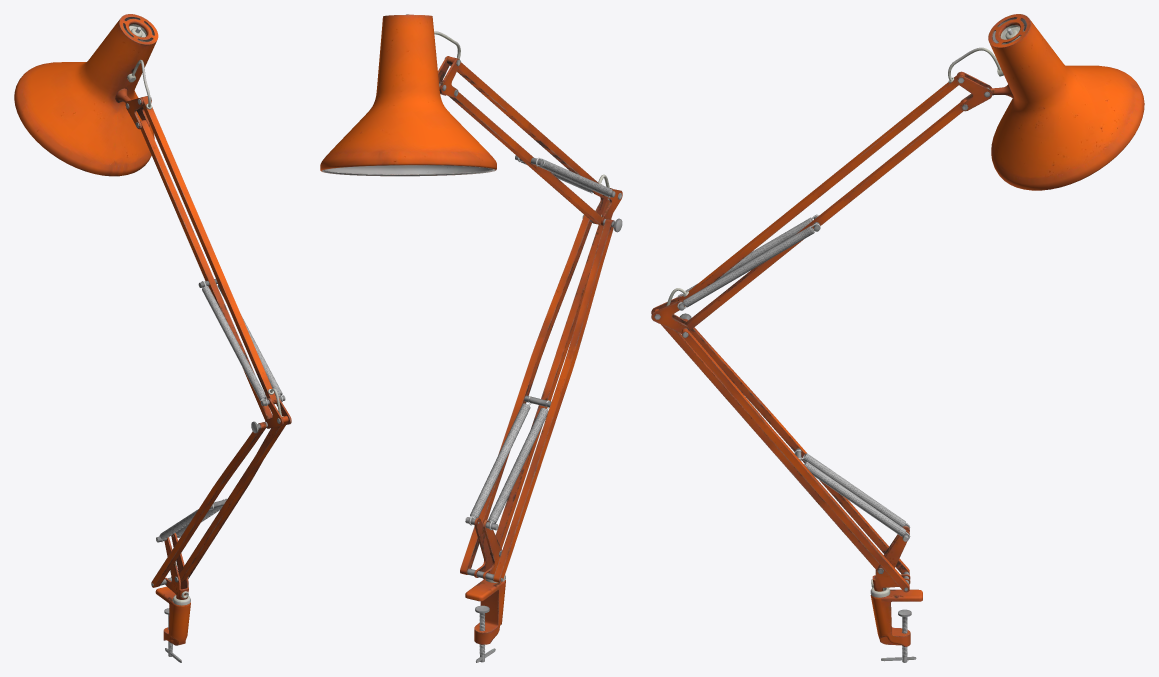
Rendered from desk_lamp_arm_01.glb.
3 views of the same model, side by side, from view 1: azimuth 30°, elevation 25°; view 2: azimuth 150°, elevation 25°; view 3: azimuth 270°, elevation 25° (orthographic). The views are drawn at different scales.
Parts seen in each view (by area): view 1: desk_lamp_arm_01; view 2: desk_lamp_arm_01; view 3: desk_lamp_arm_01.
Part boxes in pixels (left/top/right/bottom): desk_lamp_arm_01: left=14, top=14, right=291, bottom=662; desk_lamp_arm_01: left=320, top=14, right=622, bottom=662; desk_lamp_arm_01: left=651, top=14, right=1144, bottom=662.
Size of the model in its own units: 0.2017 by 0.8926 by 0.6139.
Materials: 2 (2 with a texture image).
